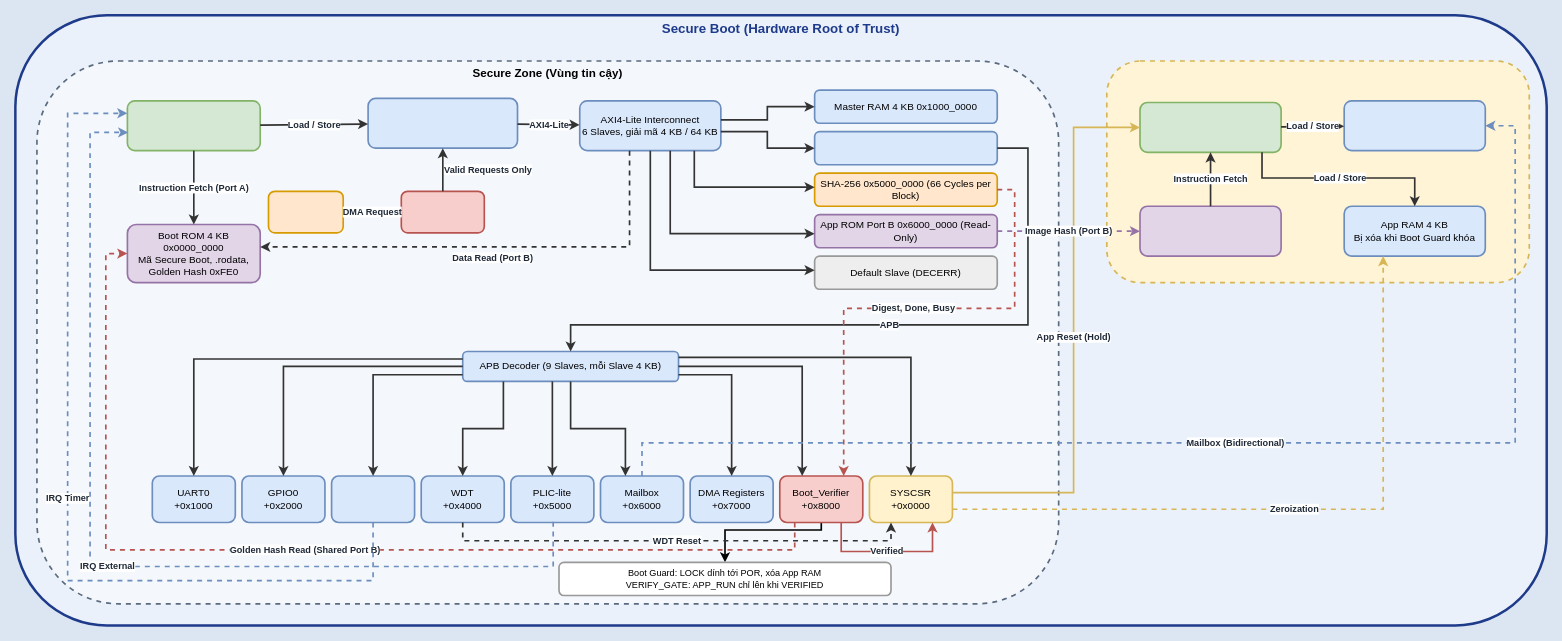
Some shapes in this 1562 by 641 pixel diagram are drawn without their labels. Here are the shapes that lost their labels. From the top down, the box of each, then its label:
(126, 100, 261, 151): Master Core RISCV_Core RV32I, Zicsr, Trap
(367, 97, 518, 149): AXI4-Lite Master CPU và Secure DMA dùng chung (Round-Robin)
(1139, 101, 1282, 153): App Core RISCV_Core (Giữ Reset tới khi được nhả)
(1343, 100, 1486, 151): App APB Bus UART1, GPIO1, TIMER1, Mailbox (Phía App)
(813, 130, 998, 165): AXI to APB Bridge 0x4000_0000
(1106, 60, 1530, 283): App Zone (Vùng chỉ chạy sau khi được xác minh)
(267, 190, 344, 233): Secure DMA 0x4000_7000
(400, 190, 485, 233): DMA Firewall Chỉ đọc App ROM và SHA STATUS
(1139, 205, 1282, 256): App ROM 4 KB Port A: Instruction Fetch
(330, 475, 415, 523): TIMER0 +0x3000
